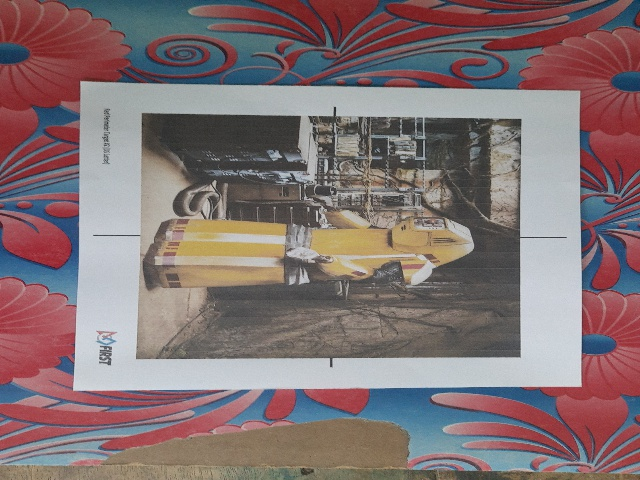rpt2: (85, 83, 550, 377)
